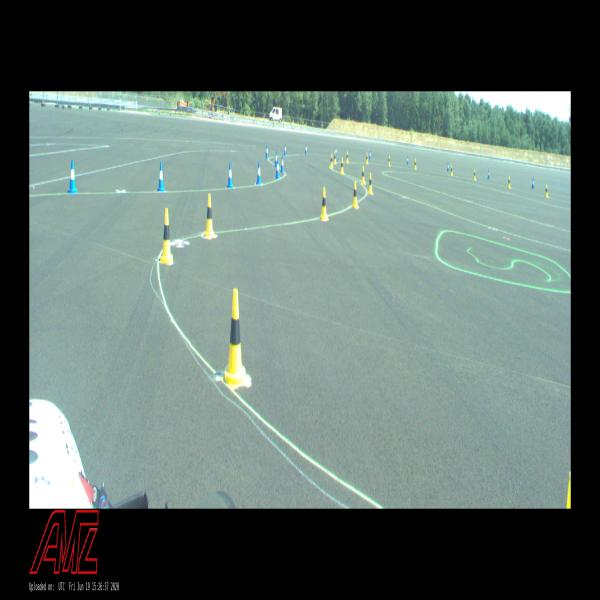blue_cone: (68, 160, 77, 194), (157, 163, 165, 192), (227, 162, 233, 188), (256, 162, 262, 184), (275, 160, 280, 178), (280, 154, 284, 173), (274, 151, 278, 167), (531, 178, 534, 189), (284, 144, 287, 155), (266, 144, 268, 159), (406, 157, 409, 165), (305, 144, 307, 155), (488, 169, 490, 180), (447, 162, 449, 172), (335, 147, 337, 157), (369, 151, 371, 159)
yellow_cone: (222, 289, 250, 389), (160, 208, 173, 264), (204, 194, 215, 236), (320, 187, 328, 219), (352, 182, 358, 208), (368, 173, 372, 194), (362, 166, 366, 184), (340, 158, 344, 174), (545, 184, 548, 198), (330, 153, 333, 167), (346, 151, 349, 163), (473, 170, 476, 180), (450, 165, 453, 175), (508, 176, 510, 189), (334, 151, 336, 164), (388, 155, 390, 166), (366, 152, 368, 163), (414, 159, 416, 169)
